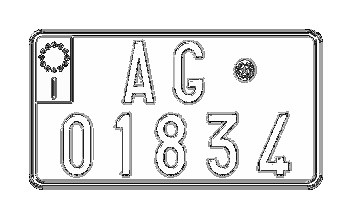plate: (39, 37, 316, 190)
